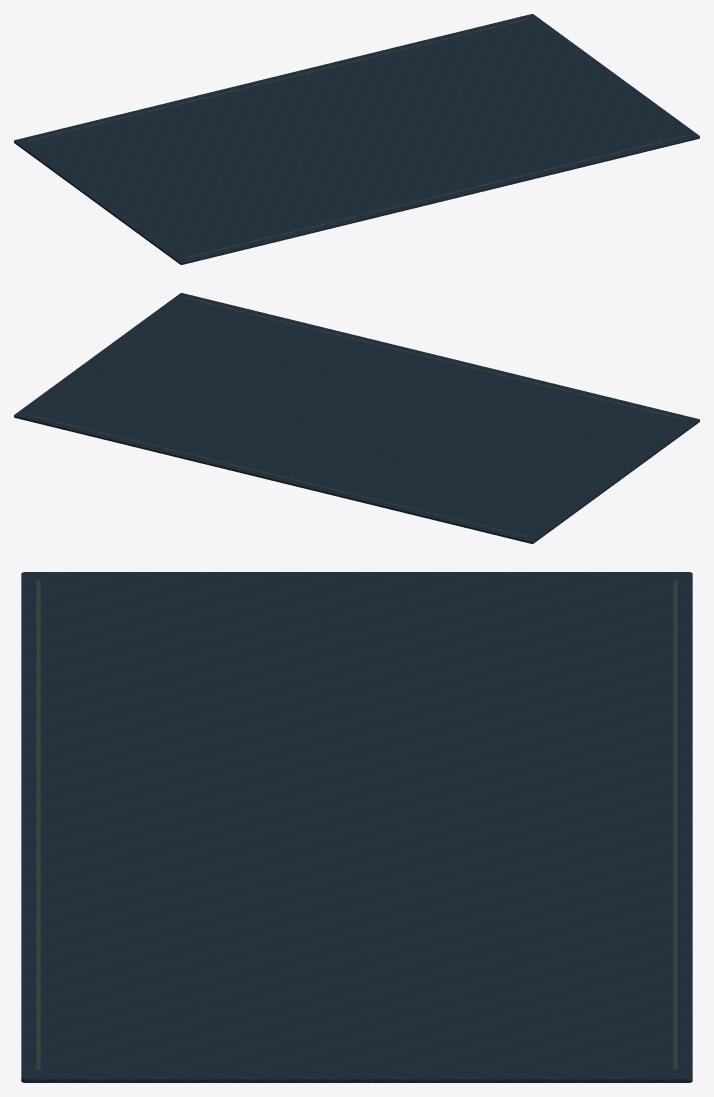
Rendered from furn_de_rug_big_06.dae.
3 views of the same model, one above another, from view 1: azimuth 30°, elevation 25°; view 2: azimuth 150°, elevation 25°; view 3: azimuth 270°, elevation 25° (orthographic). The views are drawn at different scales.
Parts seen in each view (by area): view 1: navy, sage; view 2: navy, sage; view 3: navy, sage.
Boxes of the visible parts, left/top/right/bottom form: navy: left=14, top=14, right=699, bottom=264; sage: left=26, top=18, right=686, bottom=257; navy: left=14, top=293, right=699, bottom=543; sage: left=27, top=297, right=687, bottom=536; navy: left=21, top=572, right=692, bottom=1082; sage: left=36, top=580, right=677, bottom=1069.
Size of the model in its own units: 277 by 155 by 1.07.
